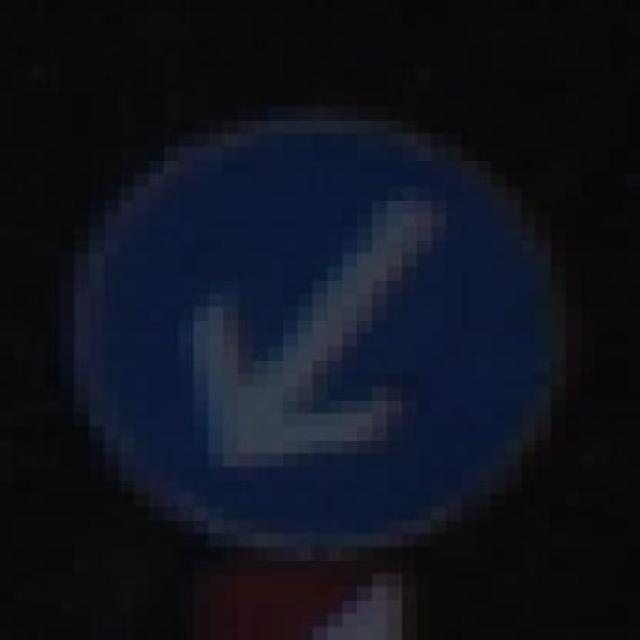Keep-Left: (45, 93, 580, 561)
